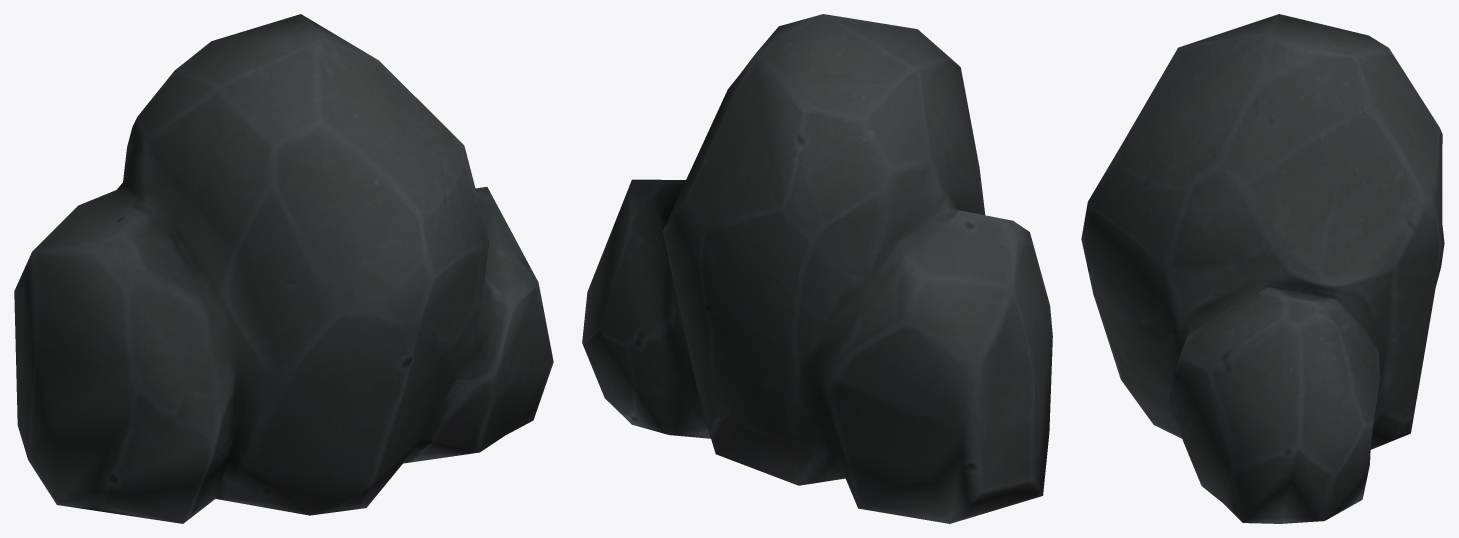
Rendered from stone.fbx.
3 views of the same model, side by side, from view 1: azimuth 30°, elevation 25°; view 2: azimuth 150°, elevation 25°; view 3: azimuth 270°, elevation 25° (orthographic). The views are drawn at different scales.
Parts seen in each view (by area): view 1: obj1; view 2: obj1; view 3: obj1.
Part boxes in pixels (x1=…): obj1: x1=14, y1=14, x2=553, y2=523; obj1: x1=582, y1=14, x2=1052, y2=523; obj1: x1=1081, y1=14, x2=1444, y2=523.
Bounding box in the file's own units: 368 × 310 × 256.
Materials: 1 (1 with a texture image).
